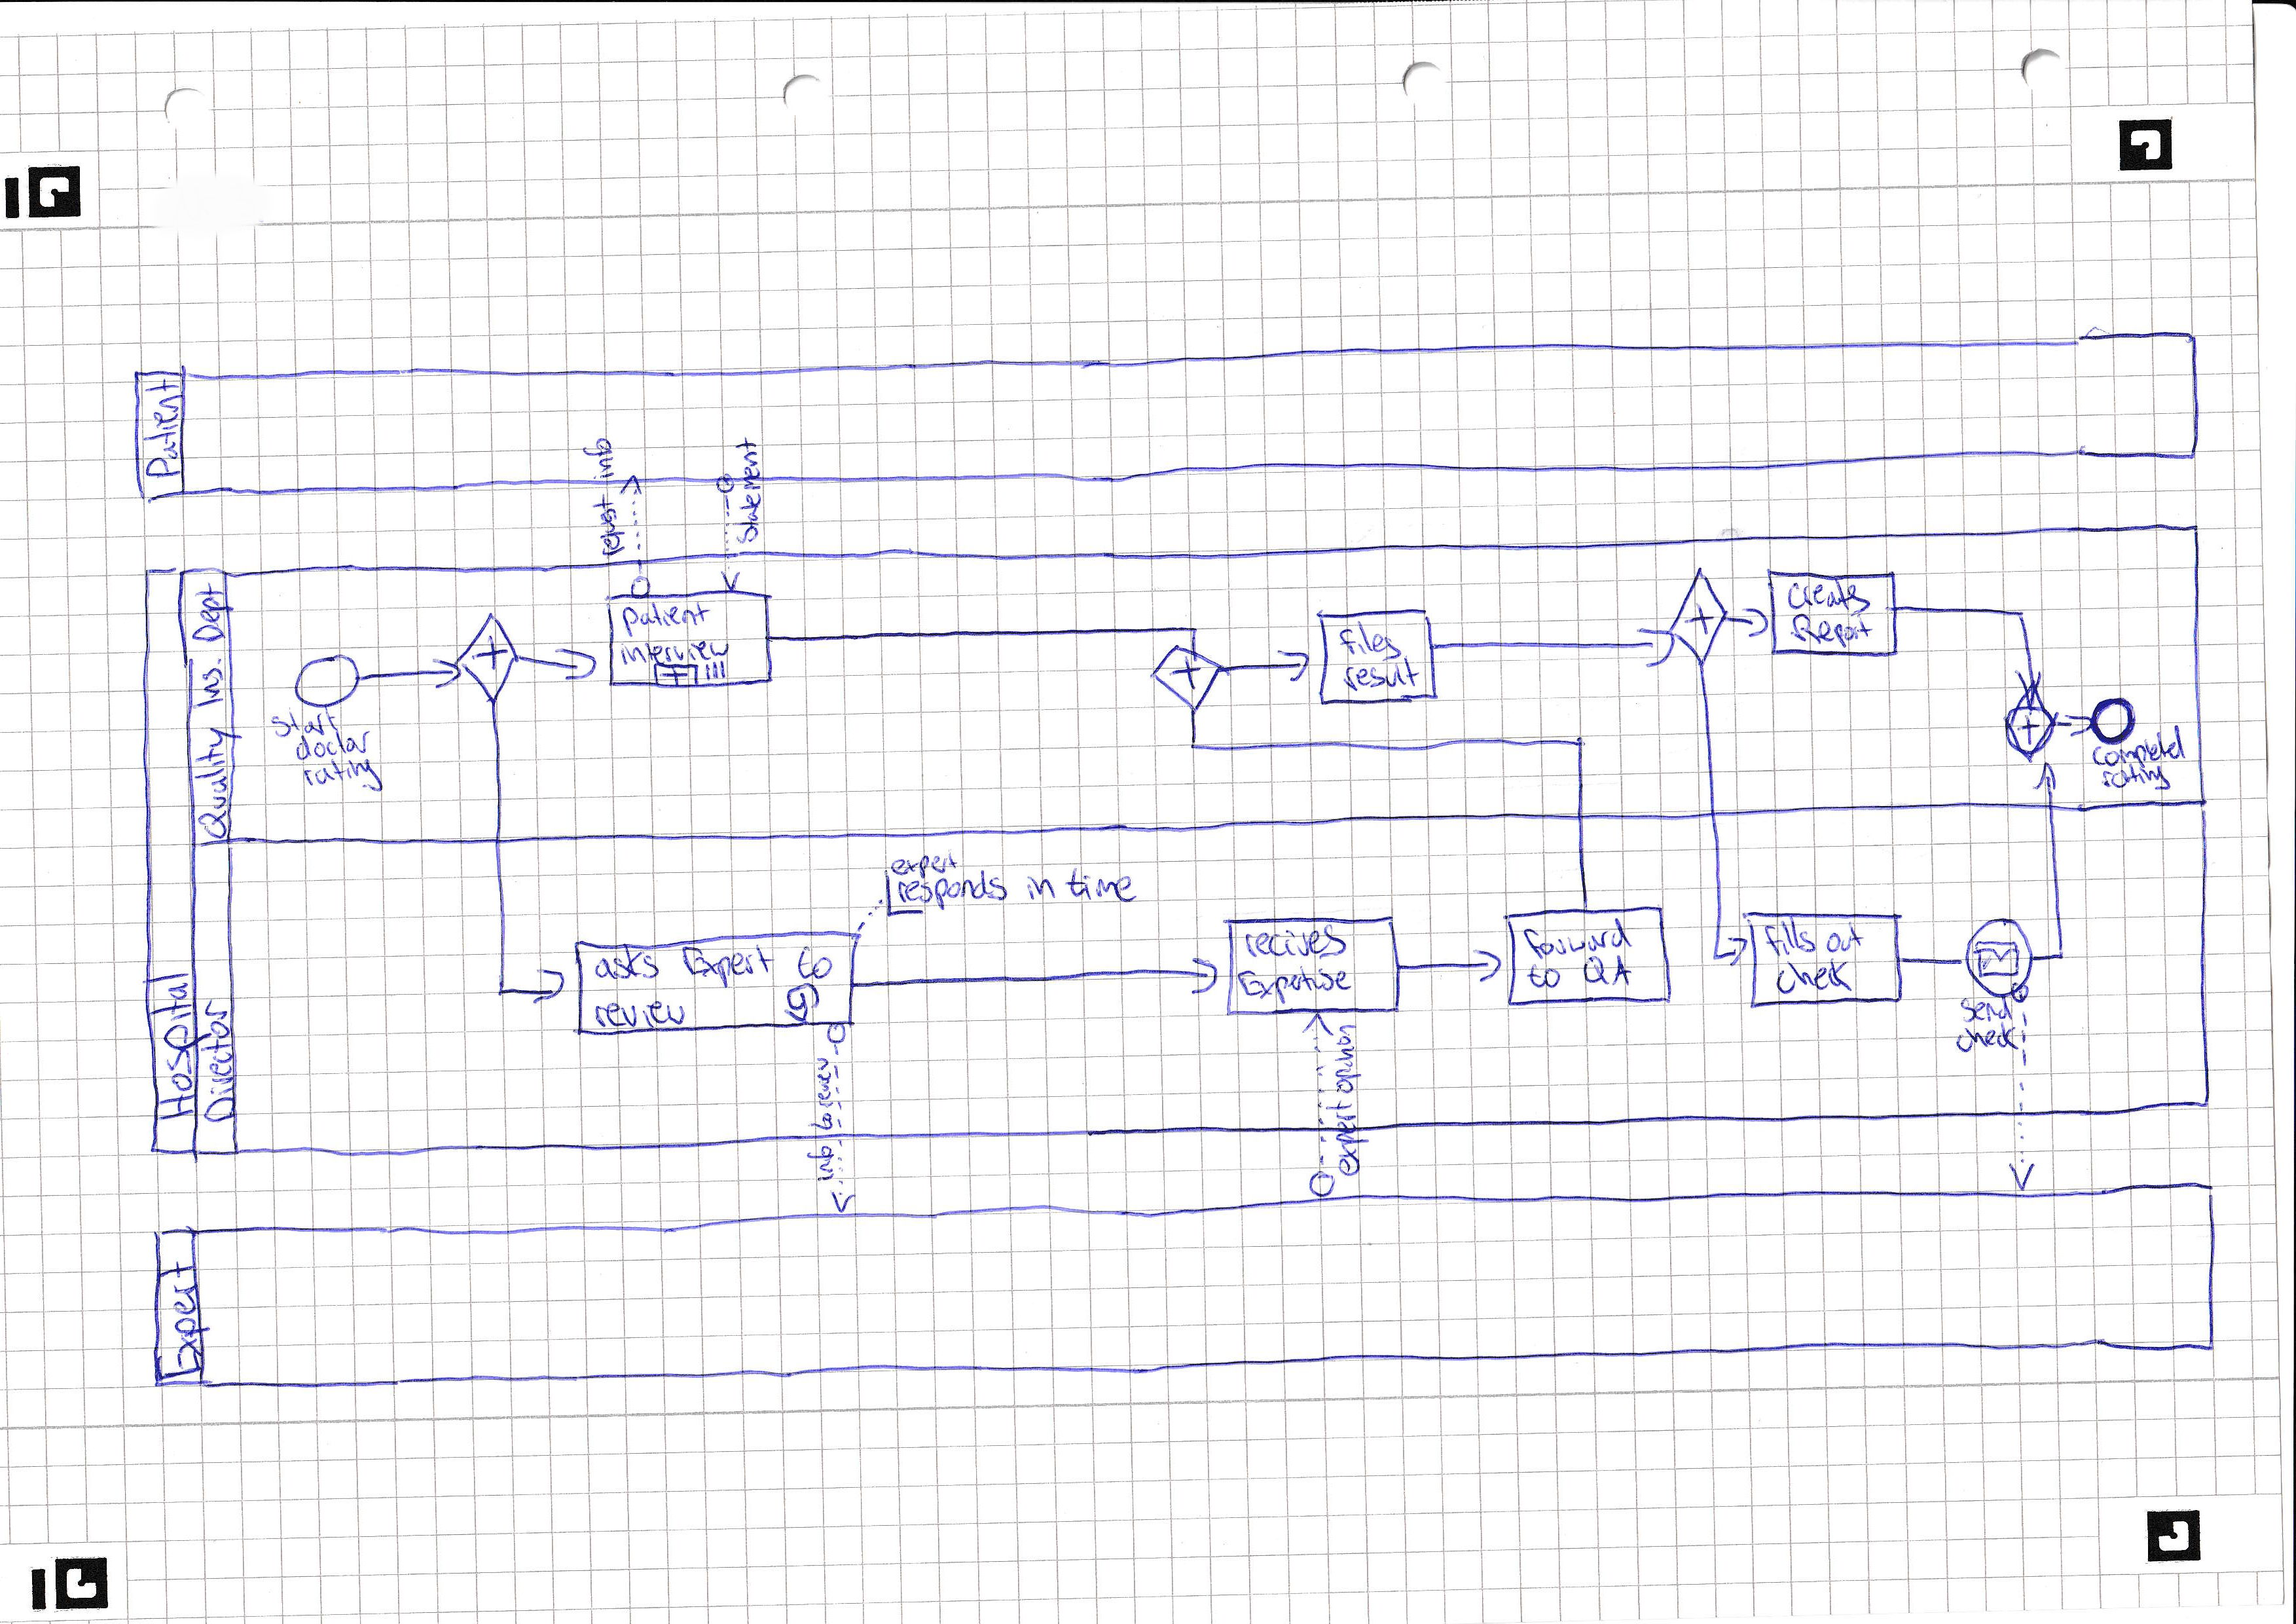Dept: (185, 578, 238, 646)
Director: (195, 993, 242, 1128)
Expert: (149, 1253, 217, 1384), (676, 940, 779, 993)
Expertise: (1233, 960, 1357, 1009)
Hospital: (137, 968, 216, 1125)
Ins.: (186, 652, 230, 714)
Patient: (136, 373, 188, 483)
QA: (1578, 950, 1635, 991)
Quality: (188, 722, 247, 843)
Report: (1785, 606, 1877, 651)
Statement: (727, 432, 767, 548)
asks: (589, 938, 665, 984)
check: (1770, 953, 1857, 1000), (1950, 1016, 2023, 1057)
completed: (2086, 720, 2190, 771)
create: (1782, 572, 1877, 621)
doctor: (291, 724, 376, 764)
expert: (1319, 1096, 1374, 1181), (886, 845, 961, 883)
files: (1334, 616, 1406, 665)
fills: (1759, 910, 1821, 961)
forward: (1518, 913, 1637, 964)
in: (1021, 870, 1061, 904)
info: (578, 433, 619, 483), (801, 1141, 839, 1186)
interview: (615, 636, 735, 670)
opinion: (1328, 1018, 1366, 1098)
out: (1823, 917, 1868, 956)
patient: (617, 597, 714, 642)
rating: (299, 753, 386, 796), (2096, 758, 2175, 796)
recives: (1240, 919, 1351, 965)
request: (589, 490, 630, 561)
responds: (892, 865, 1012, 914)
result: (1338, 650, 1424, 695)
review: (589, 995, 691, 1035), (810, 1053, 838, 1111)
send: (1955, 989, 2016, 1027)
start: (265, 699, 343, 743)
time: (1060, 862, 1143, 908)
to: (791, 940, 837, 983), (1522, 959, 1565, 993), (801, 1108, 837, 1134)
